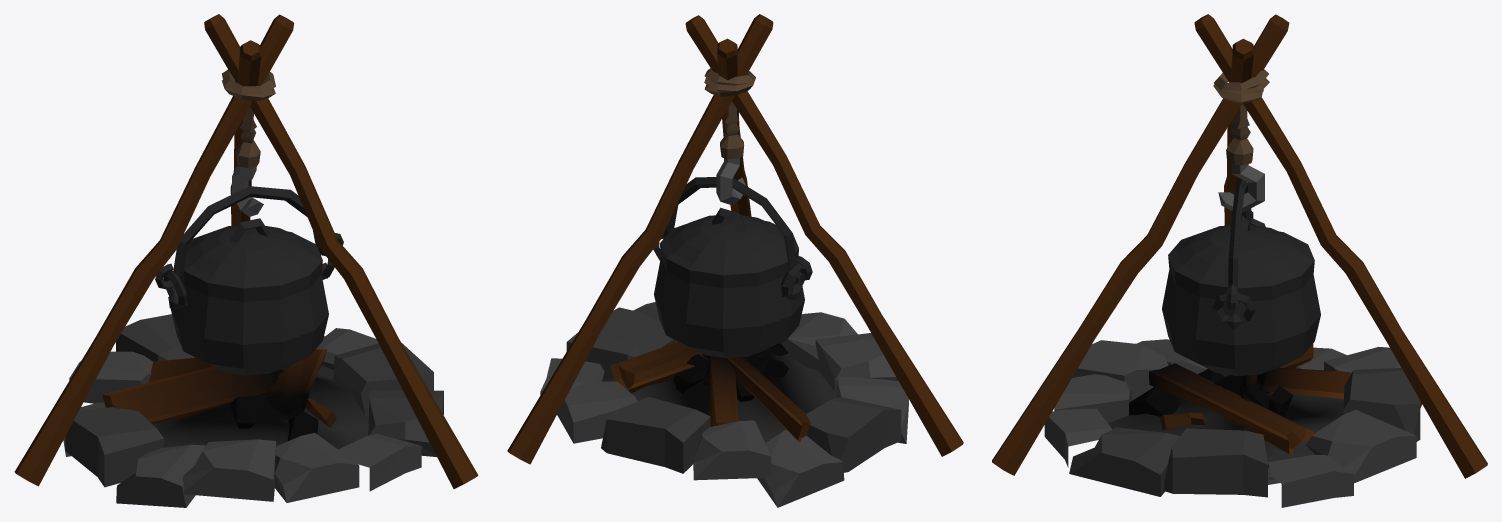
The model's file is ext_fireplace.fbx.
The picture shows the model from 3 angles, left to right: view 1: azimuth 30°, elevation 25°; view 2: azimuth 150°, elevation 25°; view 3: azimuth 270°, elevation 25°; orthographic projection. The views are drawn at different scales.
Visible parts, largest first — view 1: ext_fireplace; view 2: ext_fireplace; view 3: ext_fireplace.
Part boxes in pixels (bbox=[...]): ext_fireplace: bbox=[14, 14, 478, 507]; ext_fireplace: bbox=[507, 14, 963, 507]; ext_fireplace: bbox=[992, 14, 1487, 507].
Bounding box in the file's own units: 3.41 × 3.46 × 3.59.
